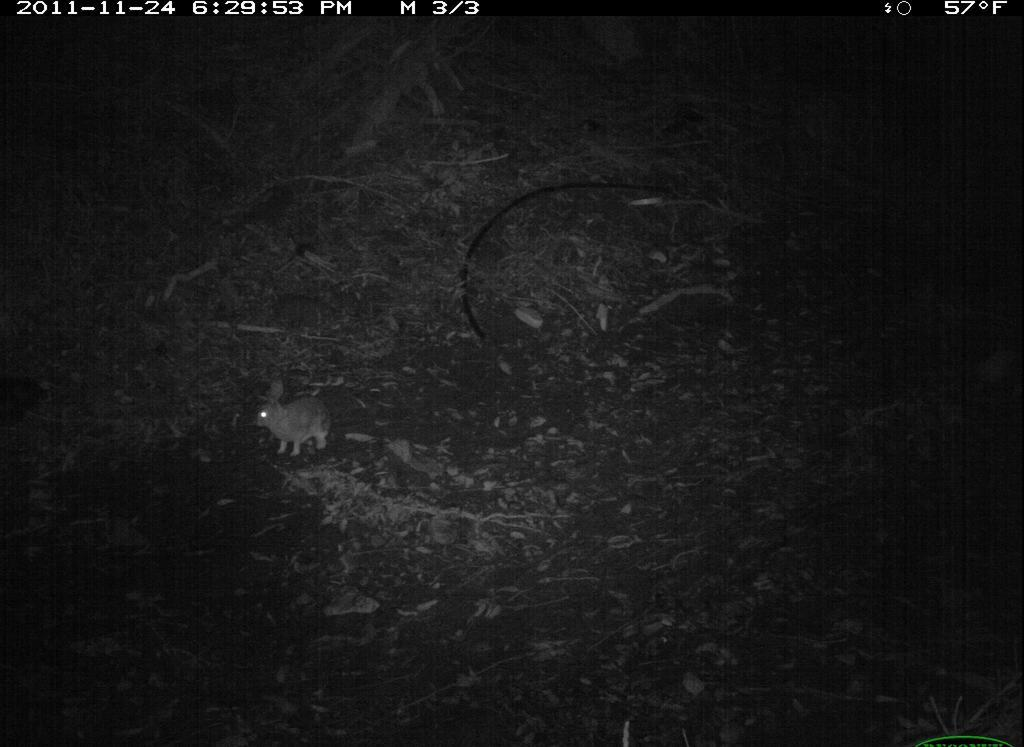rabbit: (246, 376, 344, 461)
